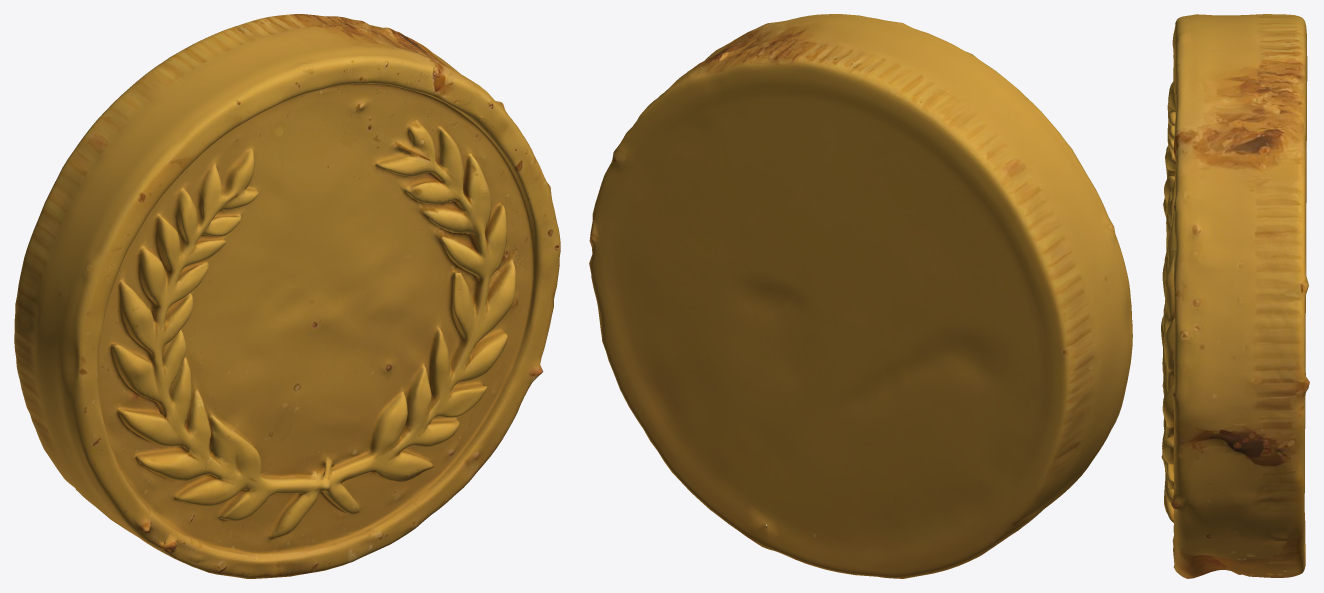
File: g67_golda_coin.glb
3 renders of one model, left to right at view 1: azimuth 30°, elevation 25°; view 2: azimuth 150°, elevation 25°; view 3: azimuth 270°, elevation 25°, orthographic.
Visible parts, largest first — view 1: tripo_node_8f8232d3; view 2: tripo_node_8f8232d3; view 3: tripo_node_8f8232d3.
Boxes of the visible parts, x1,y1,x2,y2 form: tripo_node_8f8232d3: [14, 14, 560, 578]; tripo_node_8f8232d3: [589, 14, 1132, 578]; tripo_node_8f8232d3: [1161, 14, 1309, 578].
Bounding box in the file's own units: 97.87 × 97.12 × 25.84.
1 material, 1 textured.
